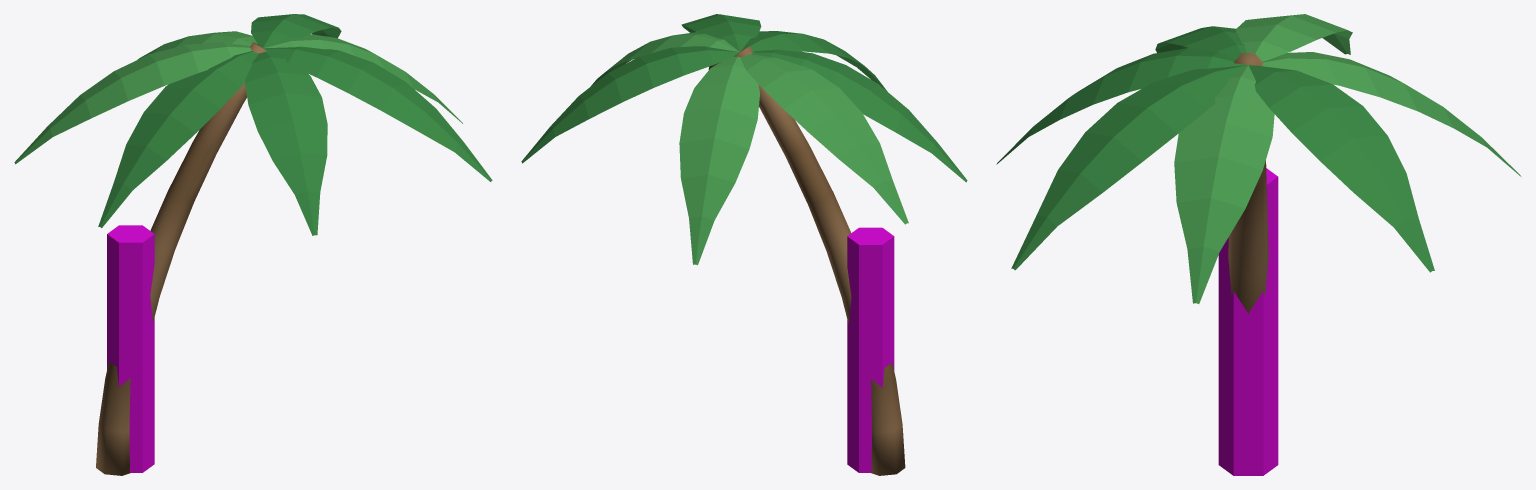
File: palm_b.glb
3 renders of one model, left to right at view 1: azimuth 30°, elevation 25°; view 2: azimuth 150°, elevation 25°; view 3: azimuth 270°, elevation 25°, orthographic. The views are drawn at different scales.
Visible parts, largest first — view 1: palm_b, COLP_palm_b; view 2: palm_b, COLP_palm_b; view 3: palm_b, COLP_palm_b.
Boxes of the visible parts, box(x1,y1,x2,y2) form: palm_b: box(14, 14, 492, 475); COLP_palm_b: box(107, 225, 154, 472); palm_b: box(521, 14, 967, 475); COLP_palm_b: box(847, 227, 894, 472); palm_b: box(996, 14, 1521, 313); COLP_palm_b: box(1218, 168, 1278, 475).
Bounding box in the file's own units: 5.29 × 5.09 × 4.95.
